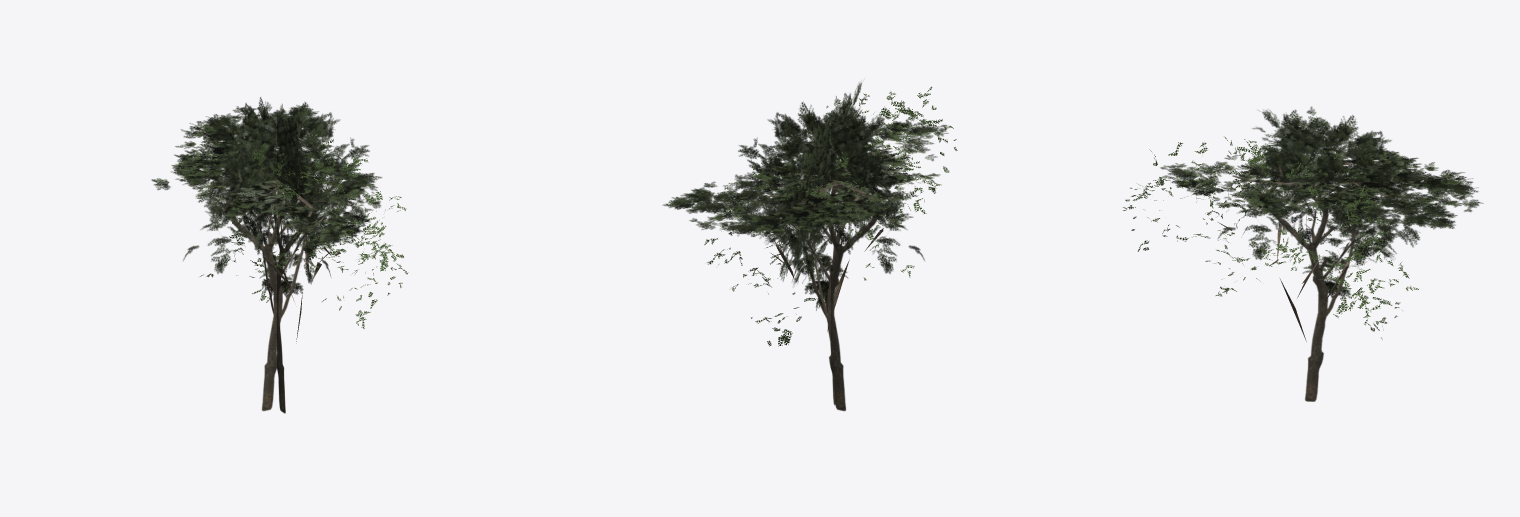
File: tree_broadleaf.glb
The picture shows the model from 3 angles, left to right: view 1: azimuth 30°, elevation 25°; view 2: azimuth 150°, elevation 25°; view 3: azimuth 270°, elevation 25°; orthographic projection. The views are drawn at different scales.
Parts seen in each view (by area): view 1: Prototype_broadleaf; view 2: Prototype_broadleaf; view 3: Prototype_broadleaf.
Part boxes in pixels (x1=…): Prototype_broadleaf: x1=151, y1=97, x2=408, y2=413; Prototype_broadleaf: x1=662, y1=82, x2=957, y2=410; Prototype_broadleaf: x1=1123, y1=106, x2=1483, y2=401.
Bounding box in the file's own units: 11.4 × 11.4 × 11.88.
Materials: 5 (5 with a texture image).
